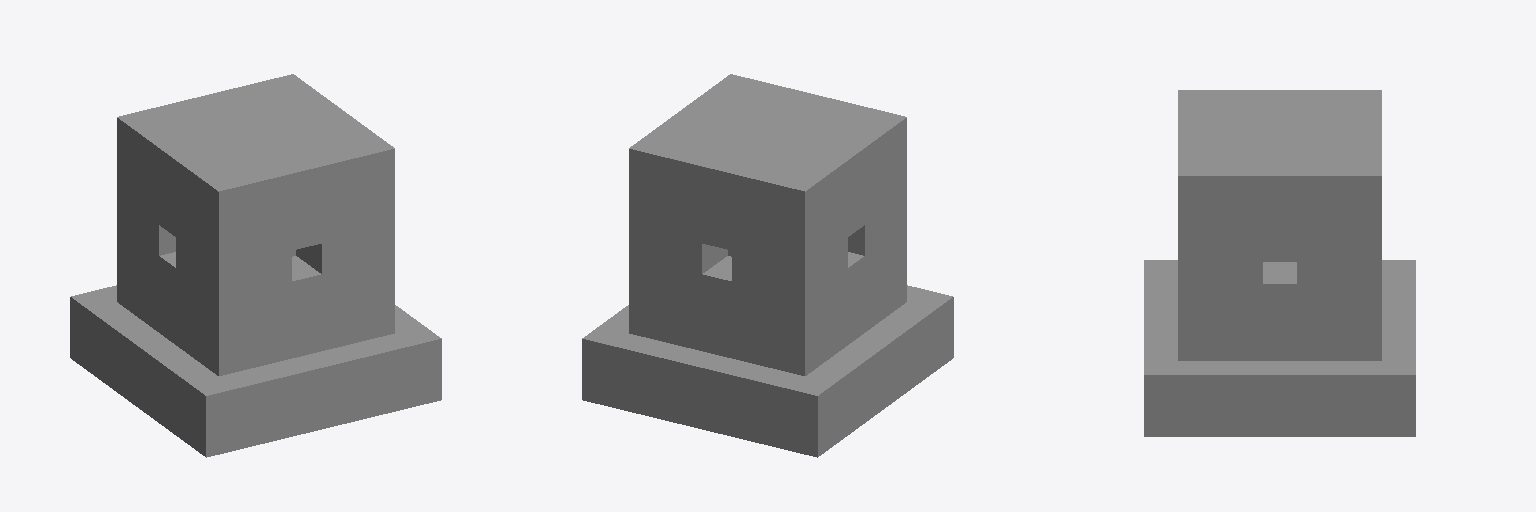
Rendered from planter.obj.
3 renders of one model, left to right at view 1: azimuth 30°, elevation 25°; view 2: azimuth 150°, elevation 25°; view 3: azimuth 270°, elevation 25°, orthographic.
Parts seen in each view (by area): view 1: Cube; view 2: Cube; view 3: Cube.
Part boxes in pixels (x1,y1,x2,y2): Cube: (70, 74, 441, 457); Cube: (582, 74, 953, 457); Cube: (1144, 90, 1415, 436).
Size of the model in its own units: 1 by 1 by 1.